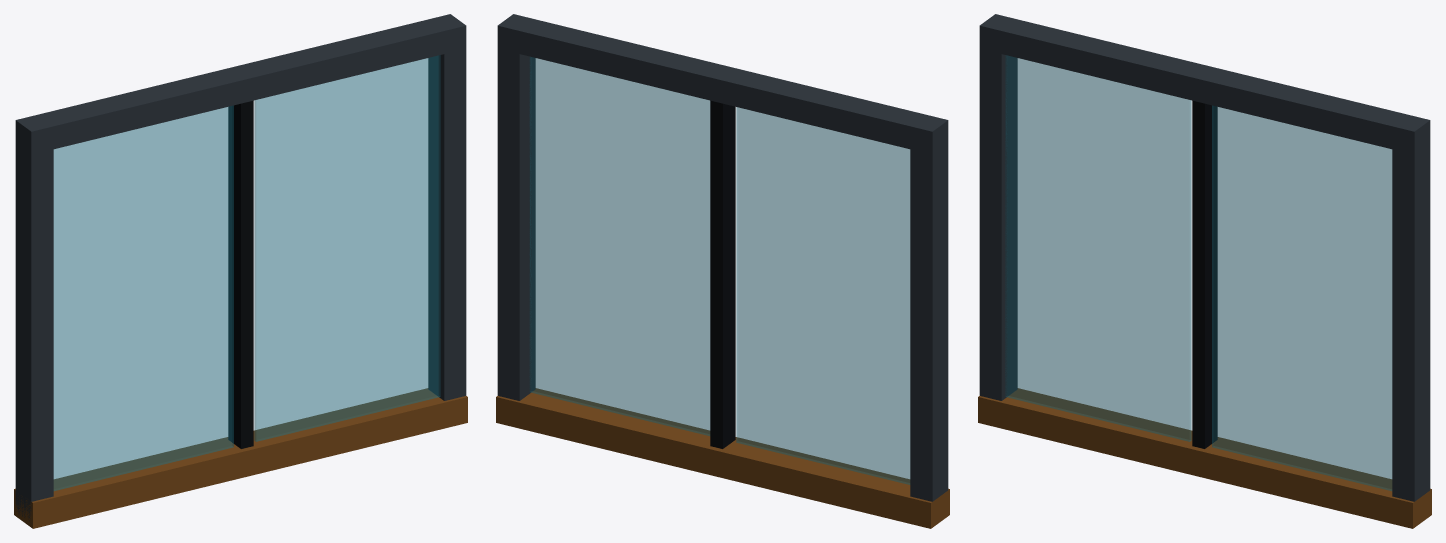
The model's file is nf_window_frame.obj.
The picture shows the model from 3 angles, left to right: view 1: azimuth 30°, elevation 25°; view 2: azimuth 150°, elevation 25°; view 3: azimuth 330°, elevation 25°; orthographic projection.
Parts seen in each view (by area): view 1: glass_right, glass_left, sill, head, left_jamb, right_jamb, mullion; view 2: glass_right, glass_left, sill, head, left_jamb, right_jamb, mullion; view 3: glass_left, glass_right, sill, head, right_jamb, left_jamb, mullion.
Boxes of the visible parts, box(x1,y1,x2,y2) form: glass_right: box(254, 55, 440, 441); glass_left: box(53, 105, 233, 490); sill: box(14, 388, 467, 528); head: box(15, 14, 466, 154); left_jamb: box(15, 123, 53, 521); right_jamb: box(428, 28, 466, 400); mullion: box(228, 100, 253, 448); glass_right: box(529, 57, 710, 435); glass_left: box(736, 107, 910, 484); sill: box(496, 388, 949, 528); head: box(497, 14, 948, 154); left_jamb: box(910, 123, 948, 501); right_jamb: box(497, 28, 535, 400); mullion: box(710, 100, 735, 448); glass_left: box(1005, 55, 1191, 441); glass_right: box(1212, 105, 1392, 490); sill: box(978, 388, 1431, 528); head: box(979, 14, 1430, 154); right_jamb: box(1392, 123, 1430, 501); left_jamb: box(979, 28, 1017, 400); mullion: box(1192, 100, 1217, 448).
Bounding box in the file's own units: 3.16 × 2.75 × 0.24.
